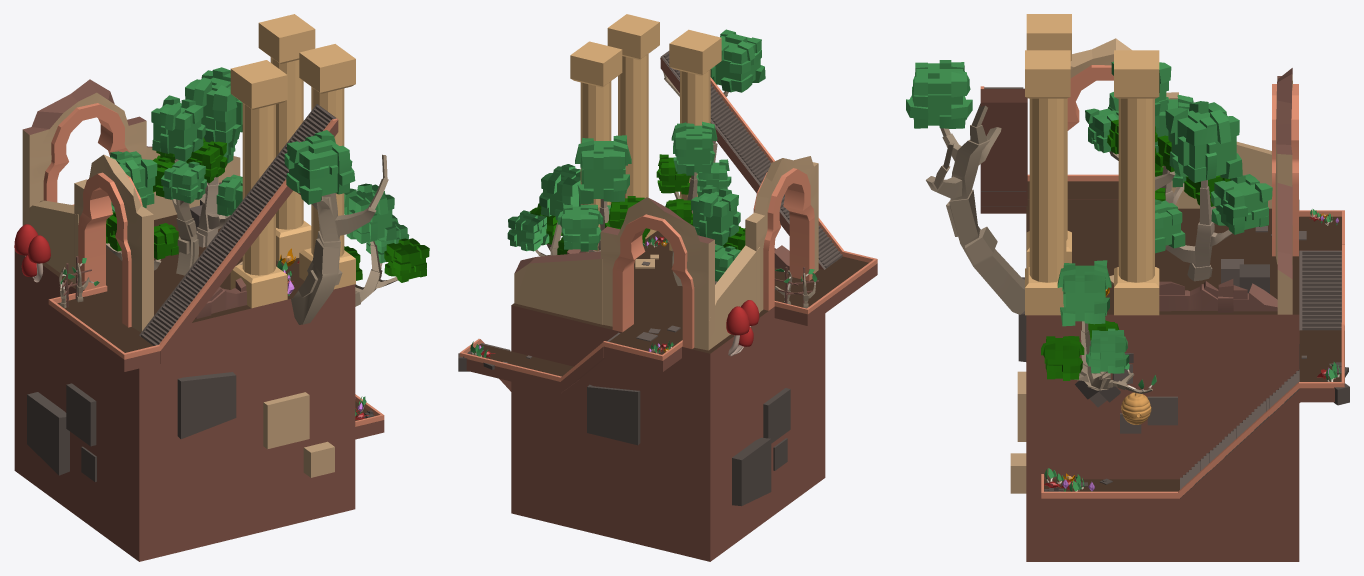
The picture shows the model from 3 angles, left to right: view 1: azimuth 30°, elevation 25°; view 2: azimuth 150°, elevation 25°; view 3: azimuth 270°, elevation 25°; orthographic projection. The views are drawn at different scales.
Visible parts, largest first — view 1: Segment1; view 2: Segment1; view 3: Segment1.
Boxes of the visible parts, x1,y1,x2,y2 form: Segment1: (14, 14, 429, 561); Segment1: (458, 14, 877, 561); Segment1: (906, 14, 1349, 561).
Bounding box in the file's own units: 14.08 × 17.94 × 14.65.
